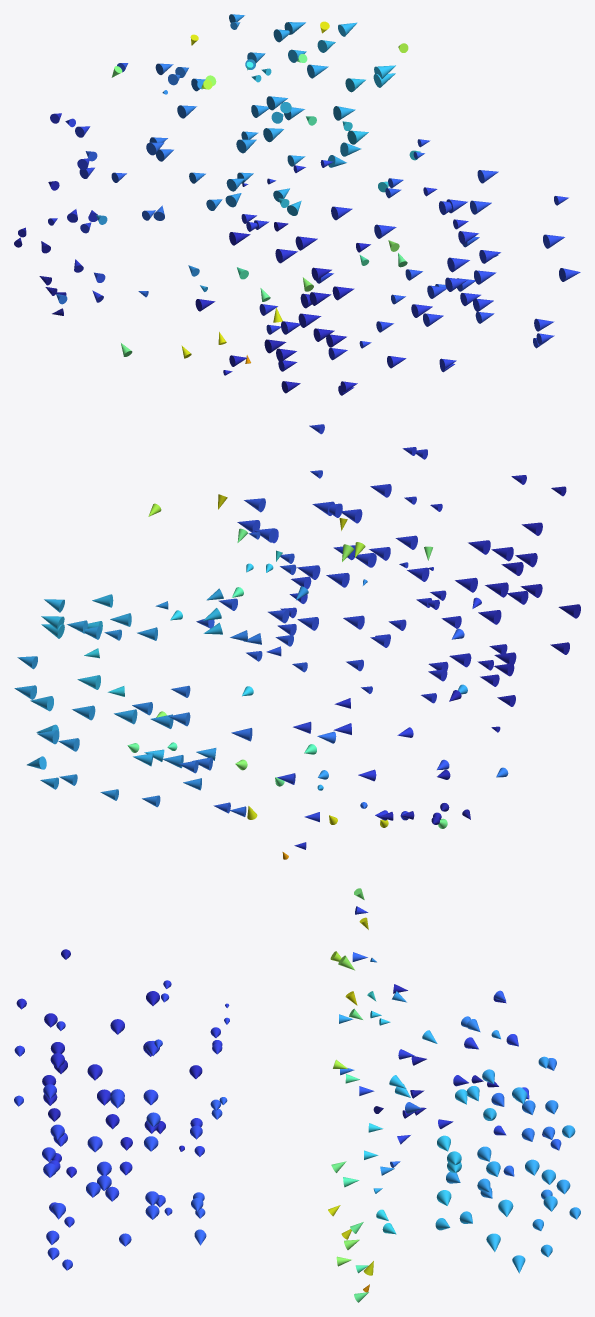
Rendered from LineasCorrienteN2-H2O_mh2-5.58_V-0.7.glb.
The picture shows the model from 3 angles, top to bottom: view 1: azimuth 30°, elevation 25°; view 2: azimuth 150°, elevation 25°; view 3: azimuth 270°, elevation 25°; orthographic projection. The views are drawn at different scales.
Size of the model in its own units: 0.000976 by 0.000811 by 0.0012.
Materials: 2 (2 with a texture image).
